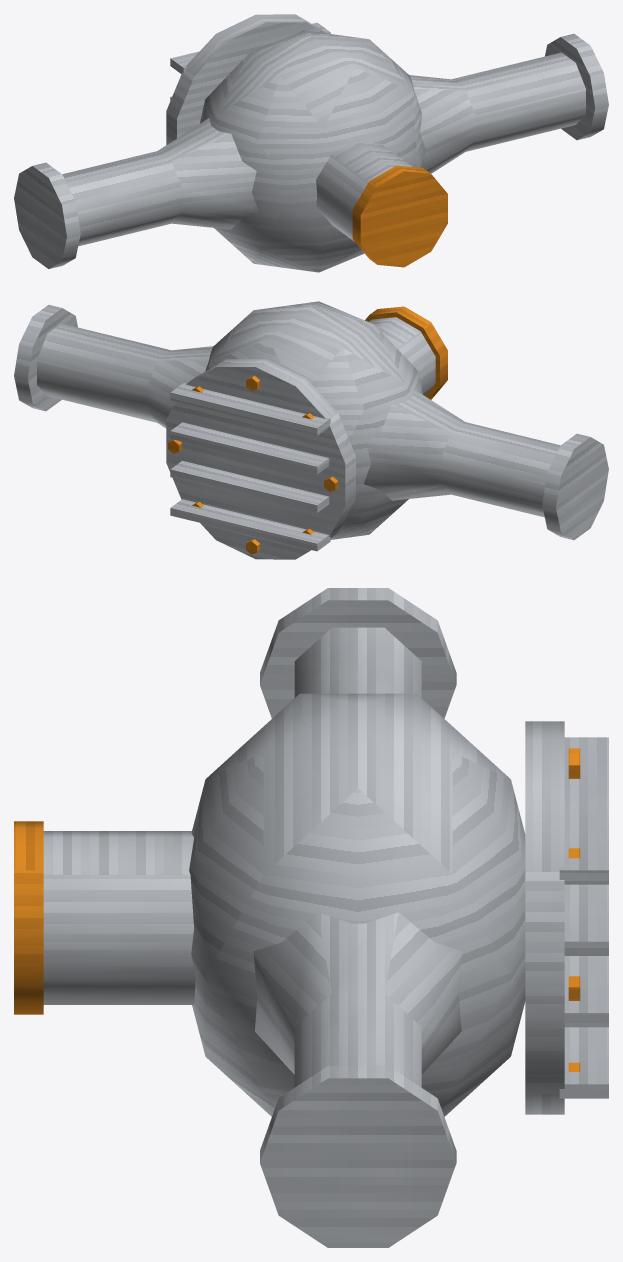
The model's file is diferencial_n3.glb.
3 views of the same model, one above another, from view 1: azimuth 30°, elevation 25°; view 2: azimuth 150°, elevation 25°; view 3: azimuth 270°, elevation 25° (orthographic). The views are drawn at different scales.
Visible parts, largest first — view 1: diferencial_n3; view 2: diferencial_n3; view 3: diferencial_n3.
Boxes of the visible parts, x1,y1,x2,y2 form: diferencial_n3: (14,14,608,272); diferencial_n3: (14,301,608,559); diferencial_n3: (14,588,608,1247).
Bounding box in the file's own units: 0.59 × 0.24 × 0.3025.
Materials: 1 (1 with a texture image).
